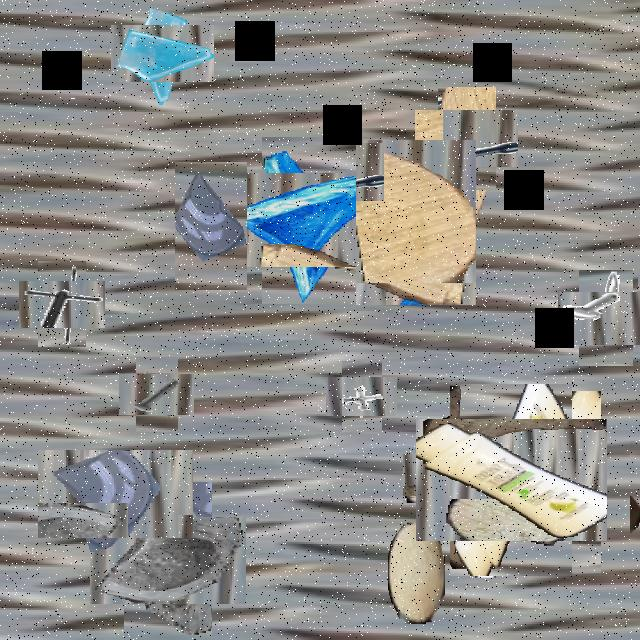glass: (244, 155, 374, 286), (107, 499, 229, 621), (54, 433, 176, 555), (175, 162, 247, 290), (123, 13, 203, 94)
metal: (427, 98, 507, 179), (568, 280, 640, 355), (28, 271, 96, 337), (128, 365, 186, 424), (334, 369, 390, 424), (618, 290, 640, 332)
plastic: (432, 402, 590, 558)
wood: (344, 150, 488, 294), (529, 391, 601, 573), (422, 433, 512, 522), (388, 523, 444, 622), (630, 434, 640, 565)
